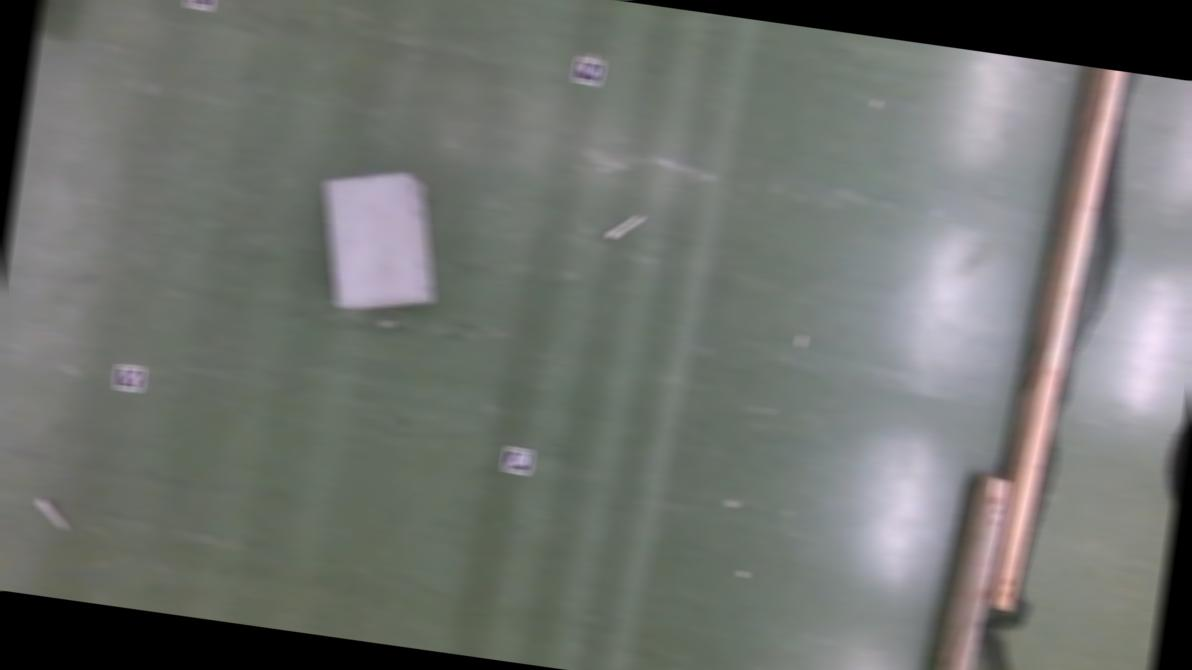probes: (606, 208, 644, 244), (34, 496, 72, 530)
rako: (305, 158, 452, 319)
